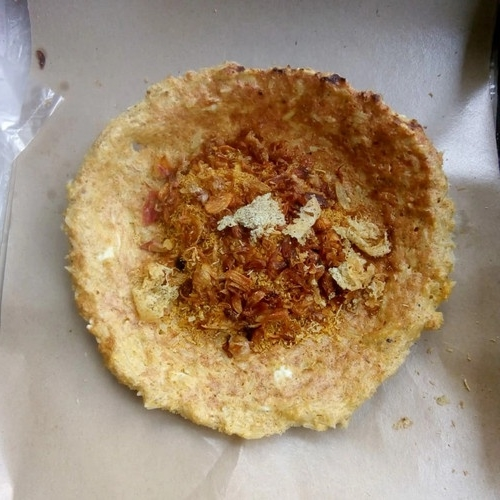kerak_telor: (64, 61, 457, 441)
